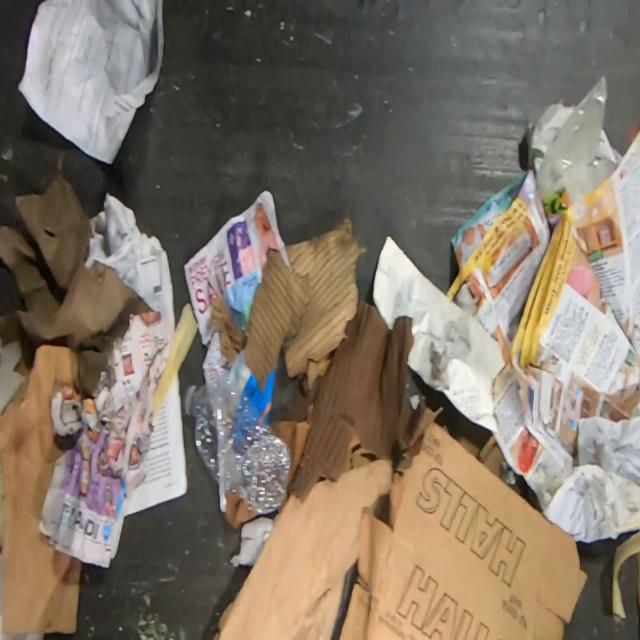cardboard: (337, 420, 588, 640), (213, 458, 397, 640), (291, 303, 442, 498), (211, 209, 368, 393), (0, 344, 82, 636), (230, 351, 277, 424), (457, 434, 517, 486), (270, 420, 310, 488), (226, 493, 258, 529)
rigid_plastic: (184, 370, 293, 516)
soft_plastic: (538, 75, 616, 206)
